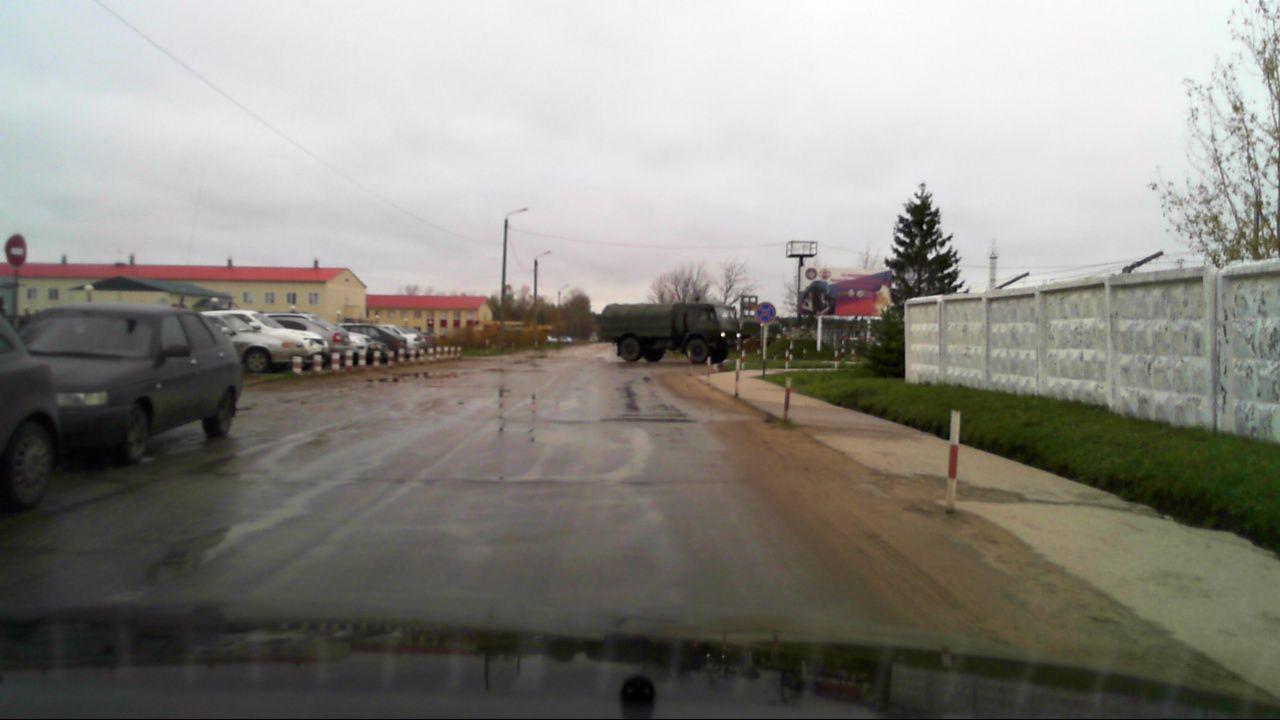No Parking: (755, 302, 777, 324)
